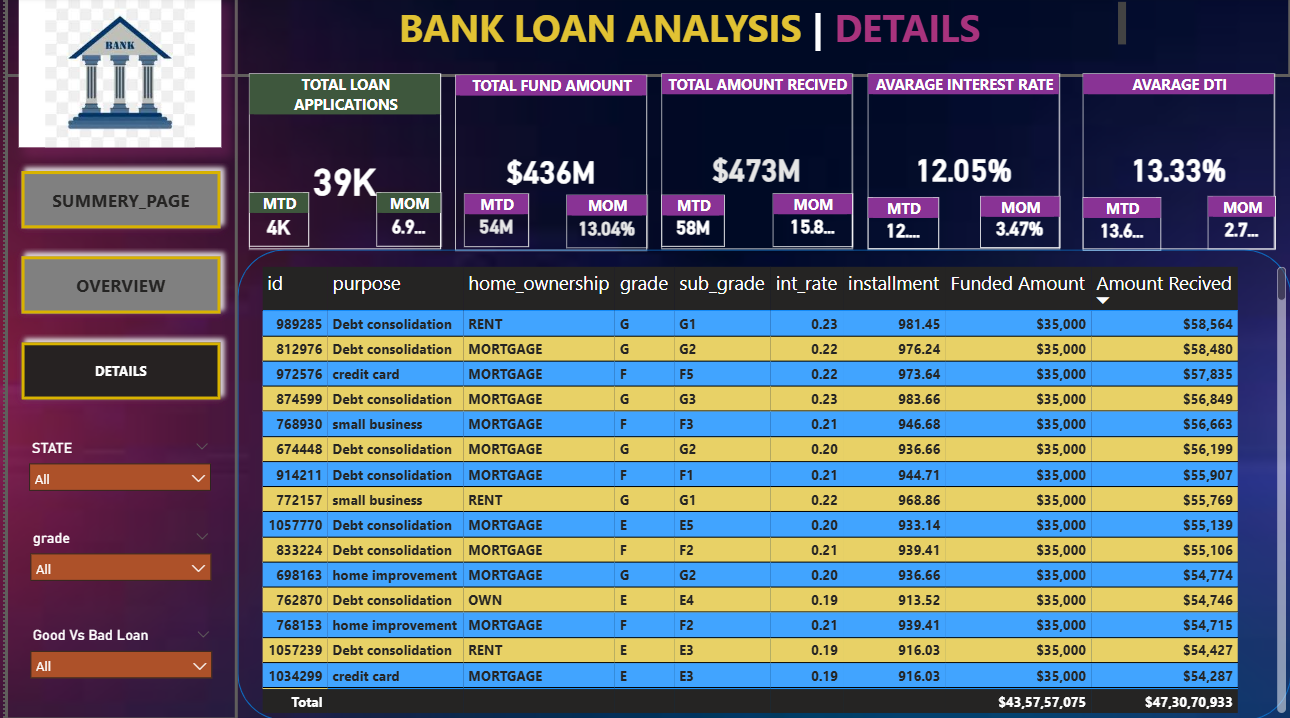

The page's visual inventory and layout, read from the dashboard file:
{"tool":"powerbi","page":{"name":"DETAILS","canvas":[1280,720],"ordinal":2},"visuals":[{"type":"actionButton","box":[0,0,1280,79.6],"z":0},{"type":"actionButton","box":[0,0,231.7,720],"z":1000},{"type":"textbox","box":[250,0,870.8,63.4],"z":2000},{"type":"card","title":"TOTAL LOAN APPLICATIONS","fields":{"Values":["measure.Total_loan_application"]},"box":[242.6,75.9,191.6,175.4],"z":3000},{"type":"card","title":"MTD","fields":{"Values":["measure.MTD_loan_app"]},"box":[242.6,194.1,59.7,54.7],"z":4000},{"type":"card","title":"MOM","fields":{"Values":["measure.MOM_Loan_application"]},"box":[369.5,194.1,64.7,54.7],"z":5000},{"type":"card","title":"TOTAL FUND AMOUNT","fields":{"Values":["measure.Total Funded Amount"]},"box":[447.8,77.1,191.6,175.4],"z":6000},{"type":"card","title":"MTD","fields":{"Values":["measure.MTD_funded amount"]},"box":[456.5,195.3,64.7,53.5],"z":7000},{"type":"card","title":"MOM","fields":{"Values":["measure.MOM_Total_FUND_AMOUNT"]},"box":[558.5,196.5,80.9,53.5],"z":8000},{"type":"card","title":"TOTAL AMOUNT RECIVED","fields":{"Values":["measure.Total Amount Recived"]},"box":[653.1,75.9,190.3,175.4],"z":9000},{"type":"card","title":"MTD","fields":{"Values":["measure.MTD_total_amount recived"]},"box":[653.1,196.5,63.4,52.2],"z":10000},{"type":"card","title":"MOM","fields":{"Values":["measure.MOM total amount recived"]},"box":[763.8,195.3,79.6,53.5],"z":11000},{"type":"card","title":"AVARAGE INTEREST RATE","fields":{"Values":["measure.Avarage_interest_rate"]},"box":[858.3,75.9,191.6,175.4],"z":12000},{"type":"card","title":"MTD","fields":{"Values":["measure.MTD_avarage_int_rate"]},"box":[858.3,199,70.9,52.2],"z":13000},{"type":"card","title":"MOM","fields":{"Values":["measure.MOM_avg_int_rate"]},"box":[970.3,197.8,79.6,52.2],"z":14000},{"type":"card","title":"AVARAGE DTI","fields":{"Values":["measure.Avarage_DTI"]},"box":[1072.3,75.9,191.6,175.4],"z":15000},{"type":"card","title":"MTD","fields":{"Values":["measure.MTD _AVARAGE_DTI"]},"box":[1072.3,199,78.4,53.5],"z":16000},{"type":"card","title":"MOM","fields":{"Values":["measure.MOM AVG DTI"]},"box":[1196.7,198.3,68.3,53.3],"z":17000},{"type":"shape","box":[231.4,251.3,1048.7,469],"z":18000},{"type":"slicer","fields":{"Values":["financial_loan.address_state"]},"box":[13.7,435.4,201.5,67.2],"z":19000},{"type":"slicer","fields":{"Values":["financial_loan.grade"]},"box":[14.9,525,200.3,75.9],"z":20000},{"type":"slicer","fields":{"Values":["financial_loan.Good Vs Bad Loan"]},"box":[14.9,622,201.5,77.1],"z":21000},{"type":"tableEx","fields":{"Values":["financial_loan.id","financial_loan.purpose","financial_loan.home_ownership","financial_loan.grade","financial_loan.sub_grade","financial_loan.int_rate","financial_loan.installment","measure.Total Funded Amount","measure.Total Amount Recived"]},"box":[250,264,1030,454],"z":22000},{"type":"pageNavigator","box":[7.5,164.2,216.4,245.1],"z":23000},{"type":"image","box":[13.7,0,201.5,149.3],"z":24000}]}

Visuals, with their boxes in screenshot pixels (x1, y1, x2, y2), scaled from the page's 1280x720 canvas onto the 1290x718 screenshot:
actionButton: {"left": 0, "top": 0, "right": 1289, "bottom": 79}
actionButton: {"left": 0, "top": 0, "right": 234, "bottom": 717}
textbox: {"left": 252, "top": 0, "right": 1130, "bottom": 63}
"TOTAL LOAN APPLICATIONS" card: {"left": 244, "top": 76, "right": 438, "bottom": 251}
"MTD" card: {"left": 244, "top": 194, "right": 305, "bottom": 248}
"MOM" card: {"left": 372, "top": 194, "right": 438, "bottom": 248}
"TOTAL FUND AMOUNT" card: {"left": 451, "top": 77, "right": 644, "bottom": 252}
"MTD" card: {"left": 460, "top": 195, "right": 525, "bottom": 248}
"MOM" card: {"left": 563, "top": 196, "right": 644, "bottom": 249}
"TOTAL AMOUNT RECIVED" card: {"left": 658, "top": 76, "right": 850, "bottom": 251}
"MTD" card: {"left": 658, "top": 196, "right": 722, "bottom": 248}
"MOM" card: {"left": 770, "top": 195, "right": 850, "bottom": 248}
"AVARAGE INTEREST RATE" card: {"left": 865, "top": 76, "right": 1058, "bottom": 251}
"MTD" card: {"left": 865, "top": 198, "right": 936, "bottom": 251}
"MOM" card: {"left": 978, "top": 197, "right": 1058, "bottom": 249}
"AVARAGE DTI" card: {"left": 1081, "top": 76, "right": 1274, "bottom": 251}
"MTD" card: {"left": 1081, "top": 198, "right": 1160, "bottom": 252}
"MOM" card: {"left": 1206, "top": 198, "right": 1275, "bottom": 251}
shape: {"left": 233, "top": 251, "right": 1289, "bottom": 717}
slicer - financial_loan.address_state: {"left": 14, "top": 434, "right": 217, "bottom": 501}
slicer - financial_loan.grade: {"left": 15, "top": 524, "right": 217, "bottom": 599}
slicer - financial_loan.Good Vs Bad Loan: {"left": 15, "top": 620, "right": 218, "bottom": 697}
tableEx - financial_loan.id x financial_loan.purpose: {"left": 252, "top": 263, "right": 1289, "bottom": 716}
pageNavigator: {"left": 8, "top": 164, "right": 226, "bottom": 408}
image: {"left": 14, "top": 0, "right": 217, "bottom": 149}
